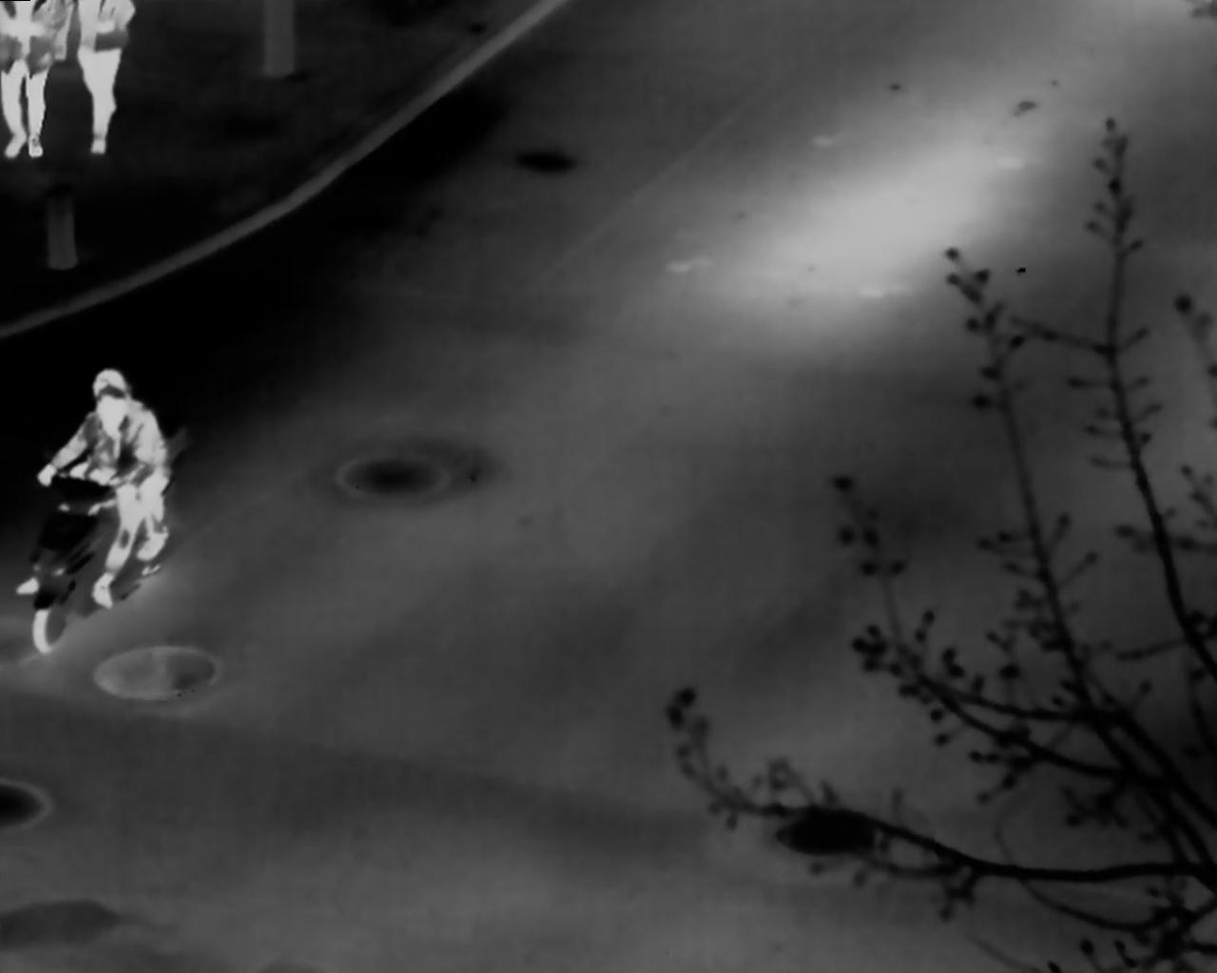person: (80, 366, 172, 563), (60, 387, 140, 609)
